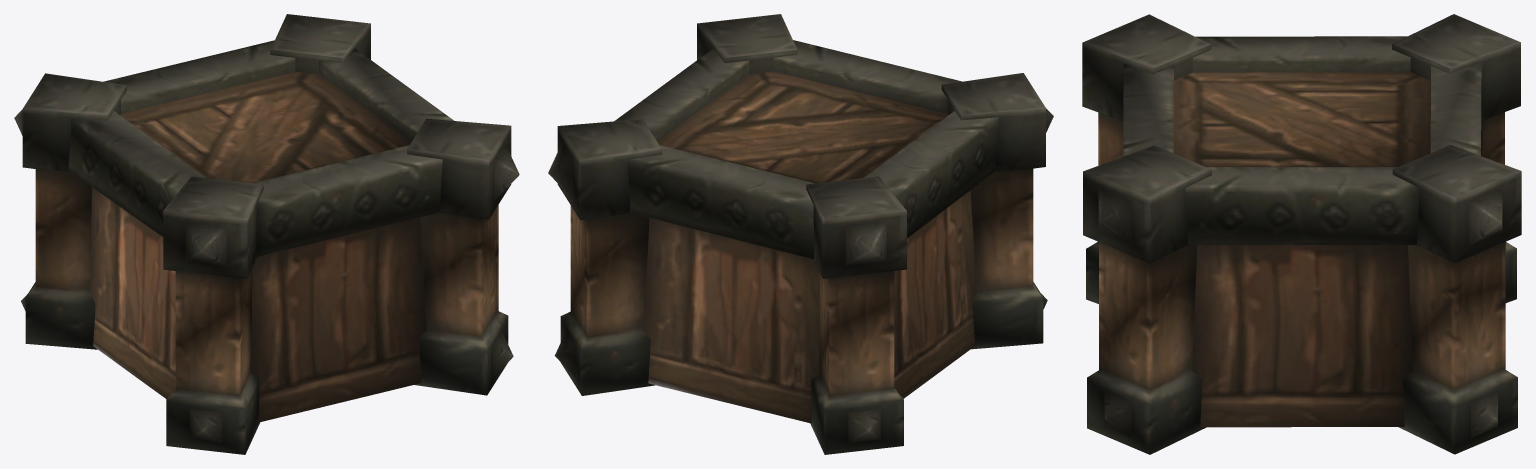
The model's file is Anmaodao_muxiangzi.FBX.
3 renders of one model, left to right at view 1: azimuth 30°, elevation 25°; view 2: azimuth 150°, elevation 25°; view 3: azimuth 270°, elevation 25°, orthographic. The views are drawn at different scales.
Visible parts, largest first — view 1: Anmaodao_muxiangzi; view 2: Anmaodao_muxiangzi; view 3: Anmaodao_muxiangzi.
Boxes of the visible parts, x1,y1,x2,y2 form: Anmaodao_muxiangzi: (14, 14, 519, 454); Anmaodao_muxiangzi: (548, 14, 1053, 454); Anmaodao_muxiangzi: (1082, 14, 1521, 454).
Bounding box in the file's own units: 52.22 × 52.22 × 33.68.
